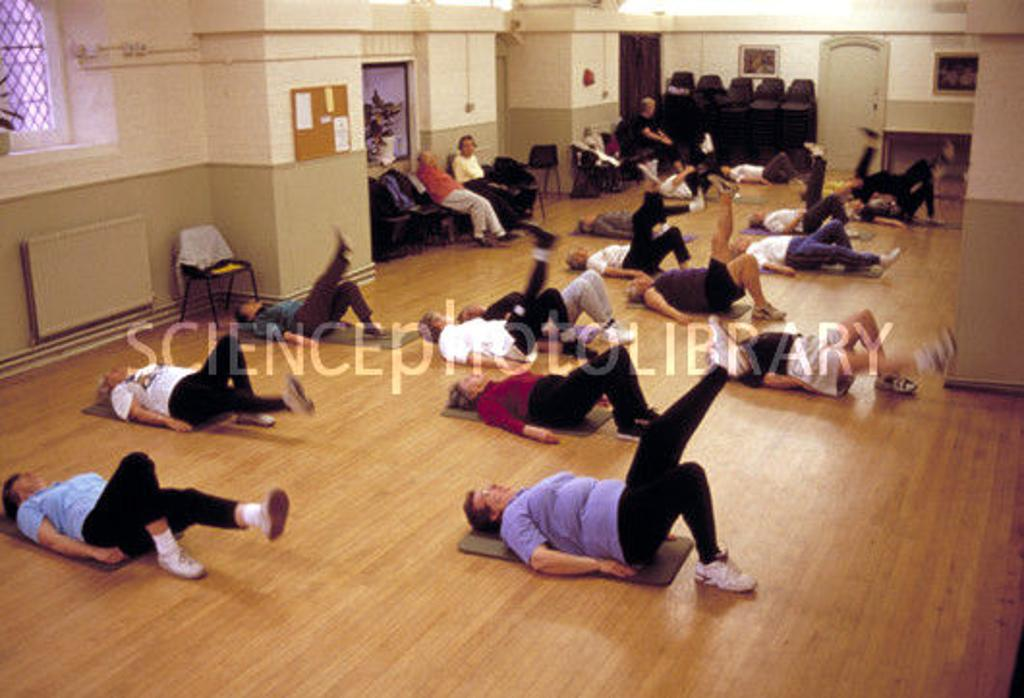face: (475, 485, 516, 506), (16, 474, 47, 491), (429, 315, 450, 332), (460, 376, 484, 389), (109, 369, 131, 381), (242, 304, 263, 314), (463, 141, 475, 156), (636, 280, 652, 291), (570, 249, 589, 258), (425, 155, 437, 168), (581, 216, 597, 224)
